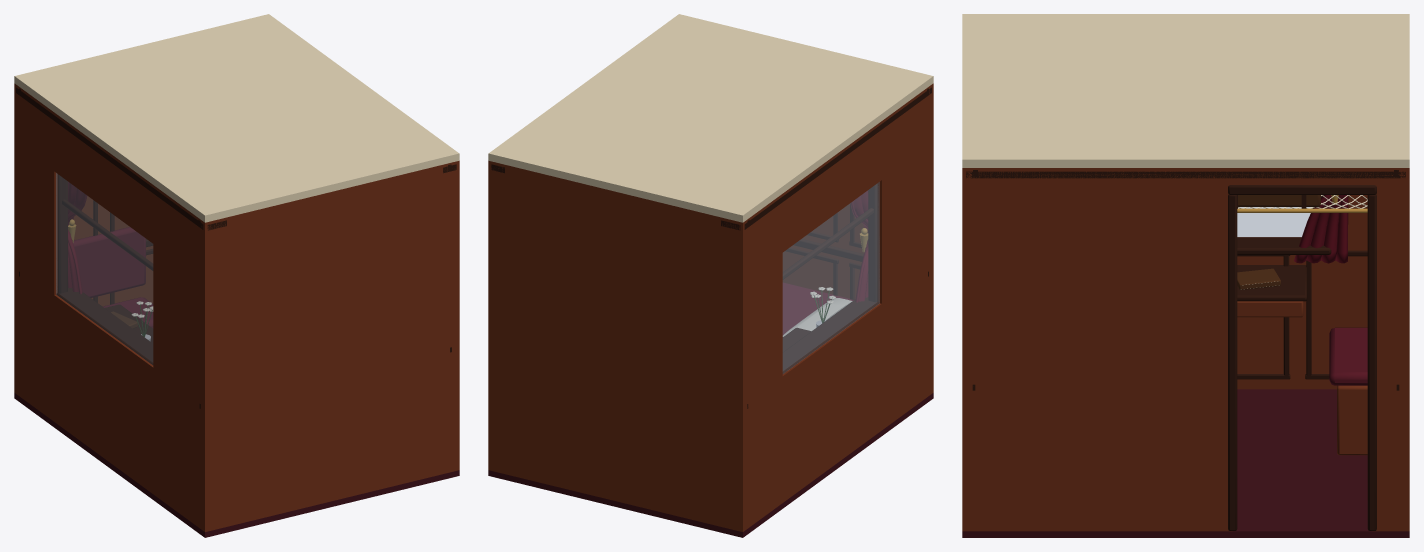
Rendered from compartment.glb.
3 renders of one model, left to right at view 1: azimuth 30°, elevation 25°; view 2: azimuth 150°, elevation 25°; view 3: azimuth 270°, elevation 25°, orthographic. The views are drawn at different scales.
Visible parts, largest first — view 1: compartment, compartment_glass; view 2: compartment, compartment_glass; view 3: compartment, compartment_glass.
Boxes of the visible parts, x1,y1,x2,y2 form: compartment: (14, 14, 459, 537); compartment_glass: (56, 173, 152, 364); compartment: (488, 14, 933, 537); compartment_glass: (783, 182, 879, 373); compartment: (962, 14, 1409, 537); compartment_glass: (1237, 207, 1310, 236).
Size of the model in its own units: 1.86 by 2.24 by 2.4.
